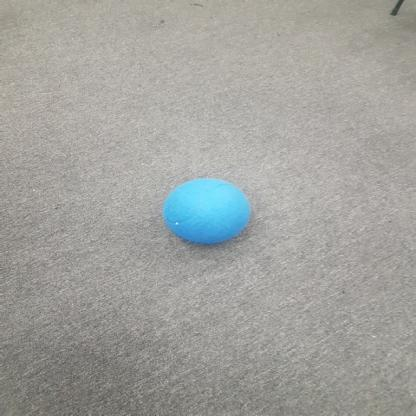ball: (149, 171, 272, 252)
